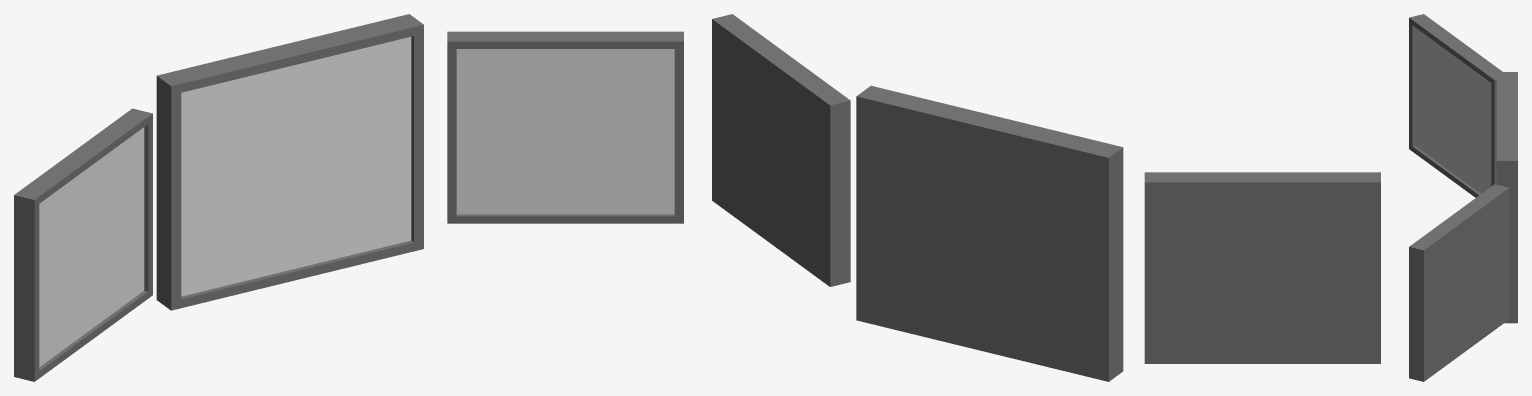
File: Garage-Screen.fbx
The picture shows the model from 3 angles, left to right: view 1: azimuth 30°, elevation 25°; view 2: azimuth 150°, elevation 25°; view 3: azimuth 270°, elevation 25°; orthographic projection. The views are drawn at different scales.
Parts seen in each view (by area): view 1: Garage-Screen-2, Garage-Screen-3, Garage-Screen-1; view 2: Garage-Screen-2, Garage-Screen-1, Garage-Screen-3; view 3: Garage-Screen-3, Garage-Screen-1, Garage-Screen-2.
Boxes of the visible parts, box(x1,y1,x2,y2) form: Garage-Screen-2: box(156, 14, 423, 310); Garage-Screen-3: box(447, 31, 683, 223); Garage-Screen-1: box(14, 108, 152, 381); Garage-Screen-2: box(856, 85, 1123, 381); Garage-Screen-1: box(1144, 172, 1380, 363); Garage-Screen-3: box(712, 14, 850, 286); Garage-Screen-3: box(1409, 184, 1509, 381); Garage-Screen-1: box(1409, 14, 1502, 197); Garage-Screen-2: box(1496, 72, 1517, 323).
Bounding box in the file's own units: 3.16 × 1.01 × 0.6143.
